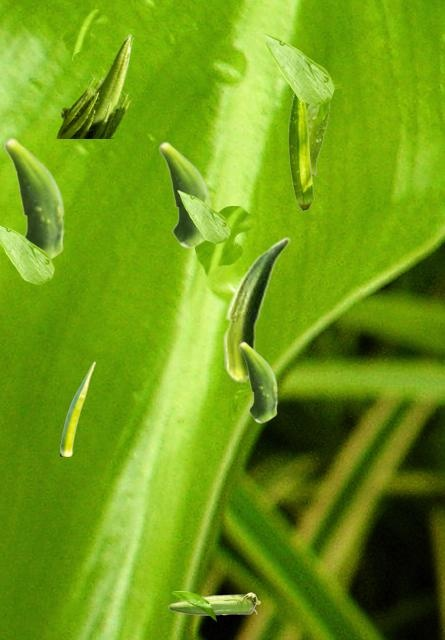okra: (222, 237, 289, 382), (55, 33, 133, 137), (3, 137, 64, 259), (158, 141, 210, 247), (60, 361, 94, 455), (238, 341, 277, 422), (288, 93, 313, 210), (168, 592, 259, 614), (307, 105, 329, 174)
